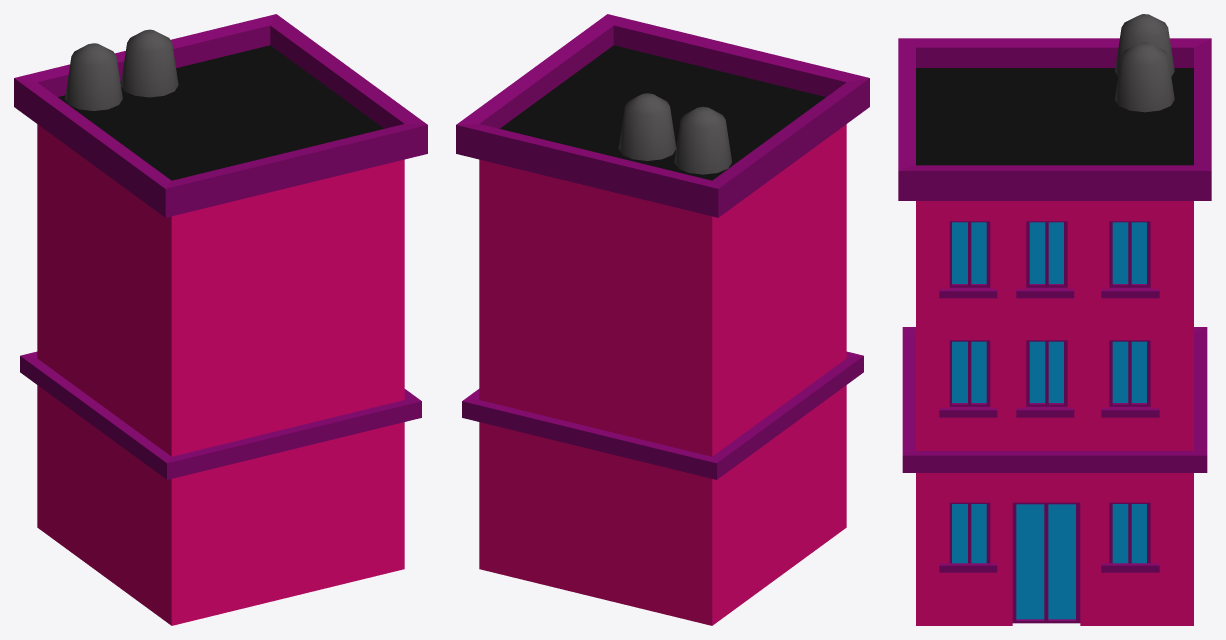
The model's file is Flat4.fbx.
3 views of the same model, side by side, from view 1: azimuth 30°, elevation 25°; view 2: azimuth 150°, elevation 25°; view 3: azimuth 270°, elevation 25° (orthographic). The views are drawn at different scales.
Parts seen in each view (by area): view 1: flat4; view 2: flat4; view 3: flat4.
Part boxes in pixels (x1=…): flat4: x1=14, y1=14, x2=427, y2=625; flat4: x1=456, y1=14, x2=869, y2=625; flat4: x1=898, y1=14, x2=1211, y2=625.
Size of the model in its own units: 7.38 by 13.17 by 7.38.
